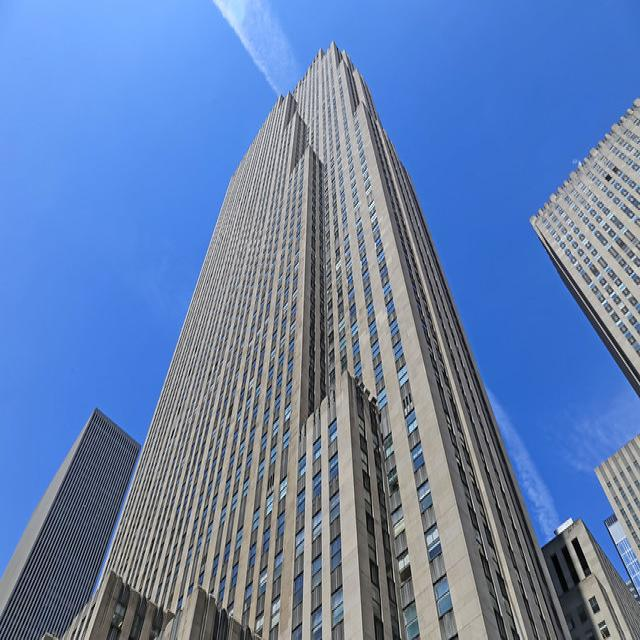building: (79, 33, 579, 640)
